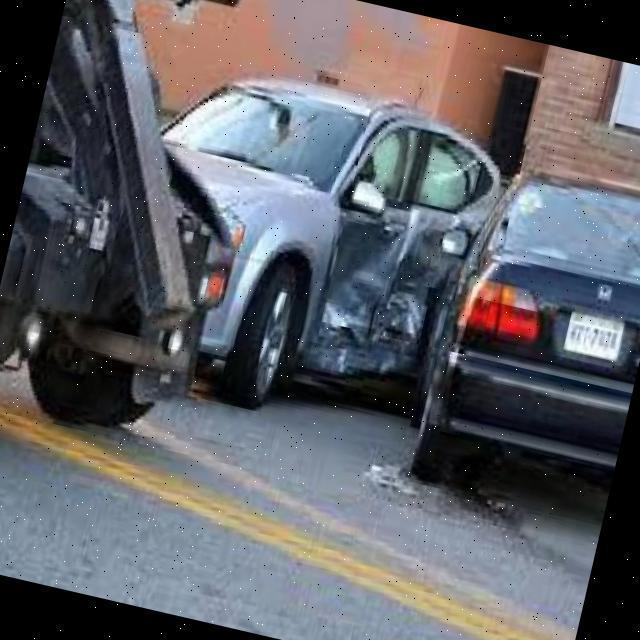accident: (250, 110, 640, 471)
